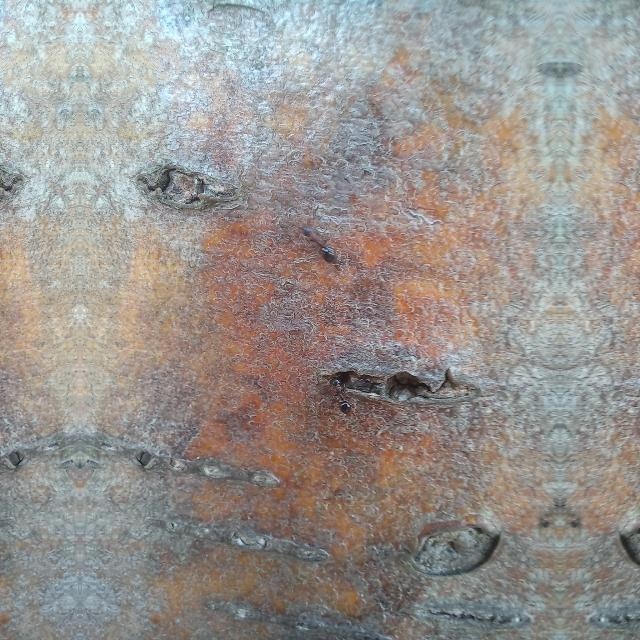Dolichoderus: (326, 360, 358, 418), (298, 226, 336, 264)
